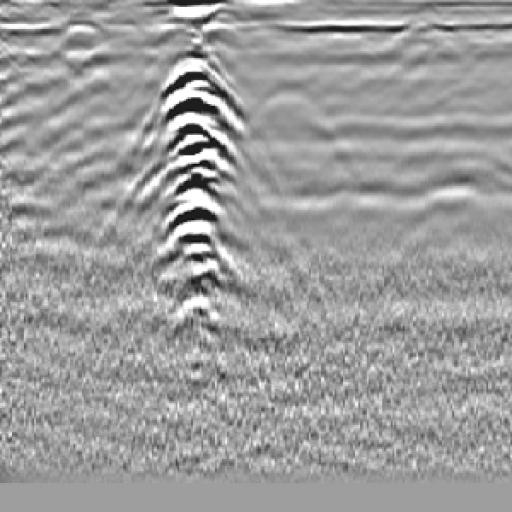metalic: (146, 40, 246, 326)
nonmetalic: (230, 63, 378, 175)
